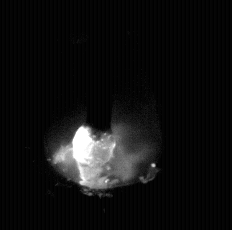arame: (86, 0, 114, 135)
poca: (44, 0, 162, 230)
